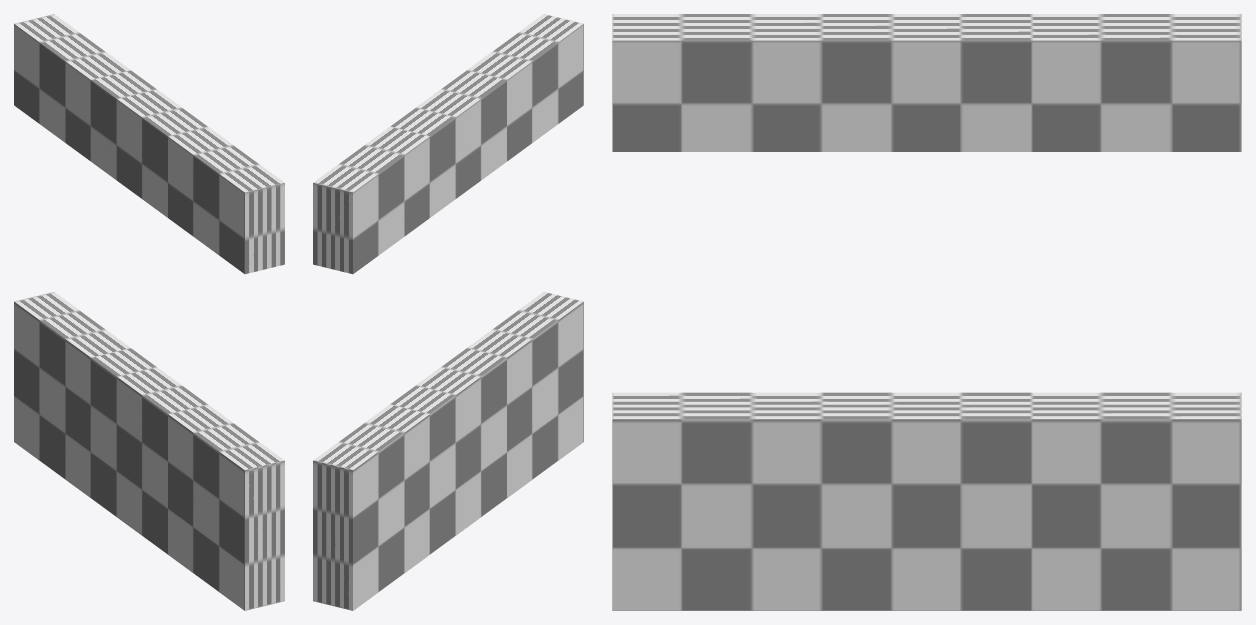
The model's file is CorridorWindowFrame.fbx.
3 views of the same model, side by side, from view 1: azimuth 30°, elevation 25°; view 2: azimuth 150°, elevation 25°; view 3: azimuth 270°, elevation 25° (orthographic). The views are drawn at different scales.
Visible parts, largest first — view 1: CorridorWindowFrame; view 2: CorridorWindowFrame; view 3: CorridorWindowFrame.
Part boxes in pixels (x1,y1,x2,y2): CorridorWindowFrame: (14,14,284,610); CorridorWindowFrame: (313,14,583,610); CorridorWindowFrame: (612,14,1241,610).
Size of the model in its own units: 11.81 by 118 by 118.
Materials: 1 (1 with a texture image).
